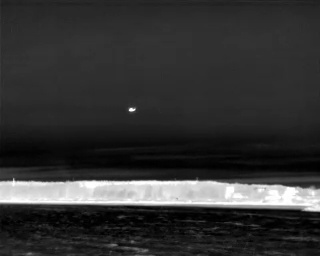HELICOPTER: (125, 103, 140, 118)
